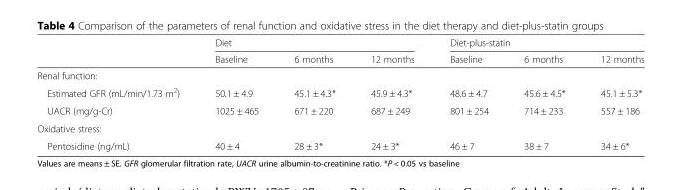table: (36, 36, 643, 151)
table column: (36, 36, 196, 151), (196, 36, 275, 151), (352, 36, 431, 151), (275, 36, 352, 151), (505, 36, 582, 151), (431, 36, 505, 151), (582, 36, 643, 151)
table column header: (36, 36, 643, 66)
table projected row header: (36, 66, 643, 83), (36, 119, 643, 136)
table row: (36, 83, 643, 101), (36, 101, 643, 119), (36, 66, 643, 83), (36, 119, 643, 136), (36, 50, 643, 66), (36, 136, 643, 151), (36, 36, 643, 50)
table spanning cell: (196, 36, 431, 50), (431, 36, 643, 50)
